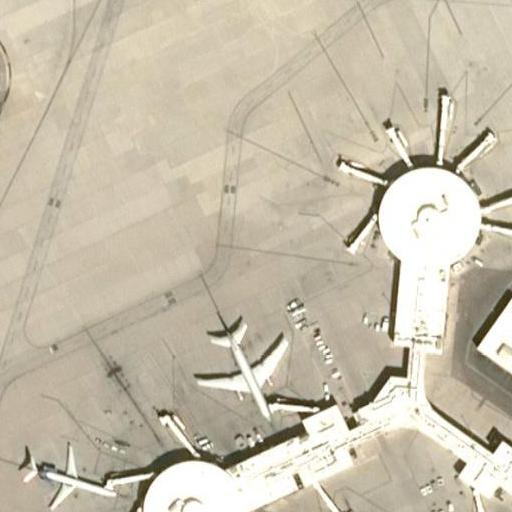Aircraft: (192, 311, 289, 421), (13, 439, 118, 507), (335, 503, 404, 512)
